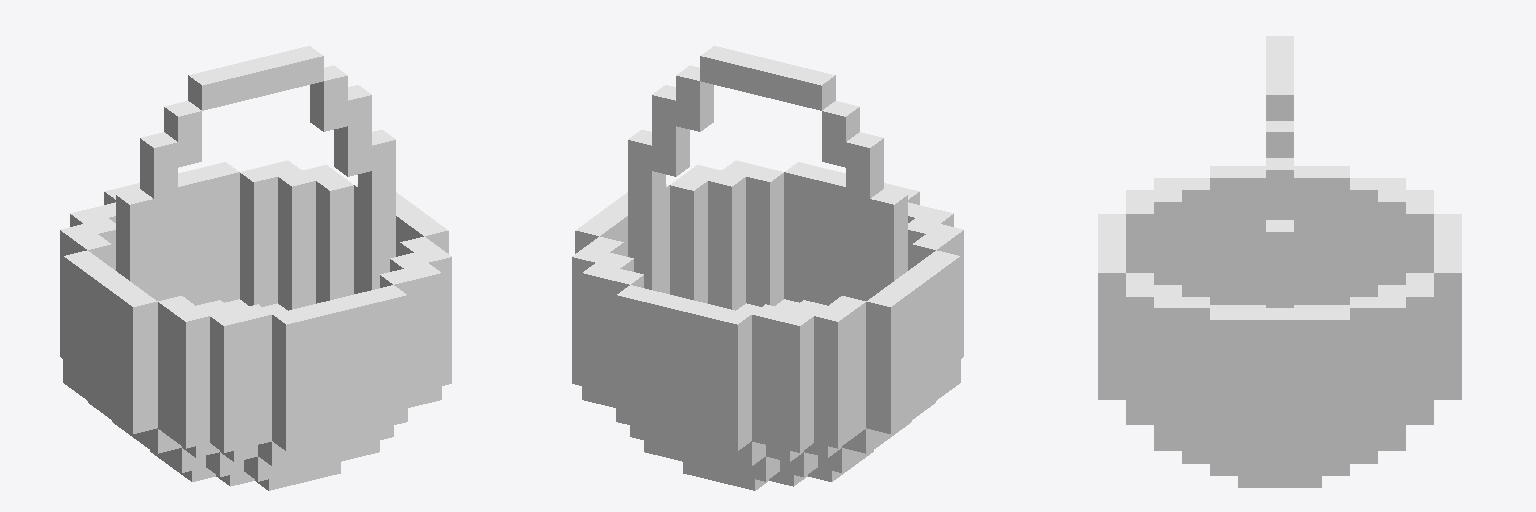
Rendered from Egg_Basket_Empty.obj.
3 views of the same model, side by side, from view 1: azimuth 30°, elevation 25°; view 2: azimuth 150°, elevation 25°; view 3: azimuth 270°, elevation 25° (orthographic).
Parts seen in each view (by area): view 1: Egg_Basket_Empty; view 2: Egg_Basket_Empty; view 3: Egg_Basket_Empty.
Part boxes in pixels (x1,y1,x2,y2): Egg_Basket_Empty: (60,46,451,490); Egg_Basket_Empty: (572,46,963,490); Egg_Basket_Empty: (1098,36,1461,487).
Size of the model in its own units: 13 by 15 by 13.